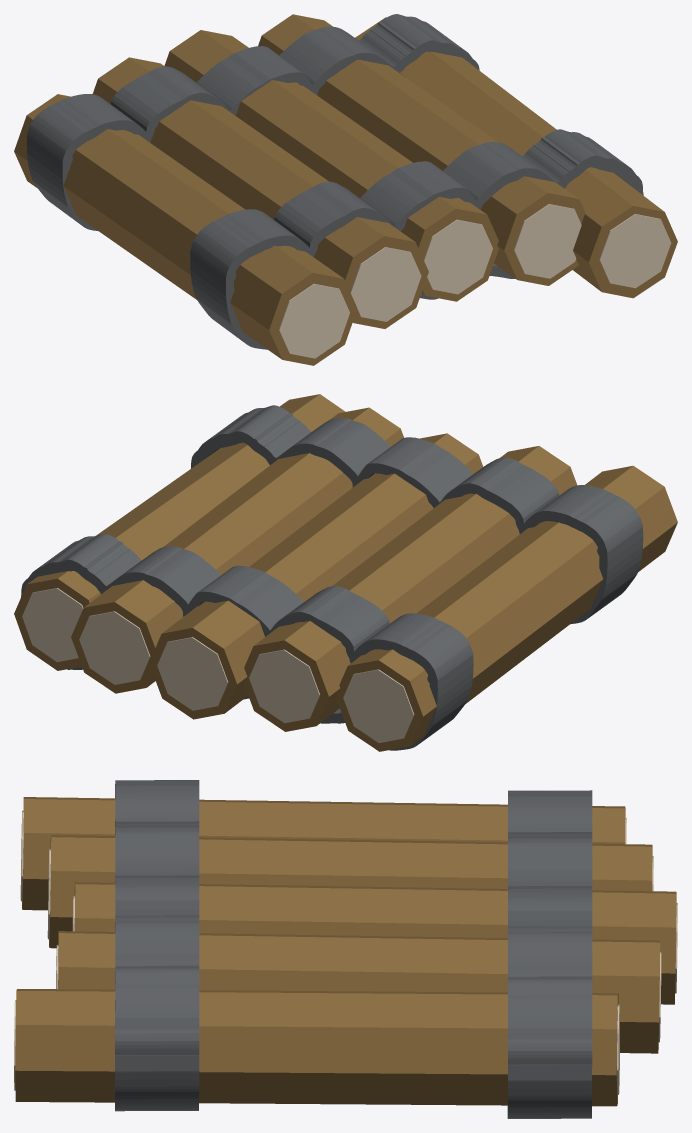
Rendered from Cartoon Raft.glb.
3 renders of one model, top to bottom at view 1: azimuth 30°, elevation 25°; view 2: azimuth 150°, elevation 25°; view 3: azimuth 270°, elevation 25°, orthographic. The views are drawn at different scales.
Visible parts, largest first — view 1: Mesh_Mesh_head_geo.001_lambert2SG.001; view 2: Mesh_Mesh_head_geo.001_lambert2SG.001; view 3: Mesh_Mesh_head_geo.001_lambert2SG.001.
Part boxes in pixels (x1,y1,x2,y2): Mesh_Mesh_head_geo.001_lambert2SG.001: [14, 14, 677, 365]; Mesh_Mesh_head_geo.001_lambert2SG.001: [14, 394, 677, 751]; Mesh_Mesh_head_geo.001_lambert2SG.001: [14, 780, 677, 1118].
Size of the model in its own units: 95.52 by 27.06 by 110.
